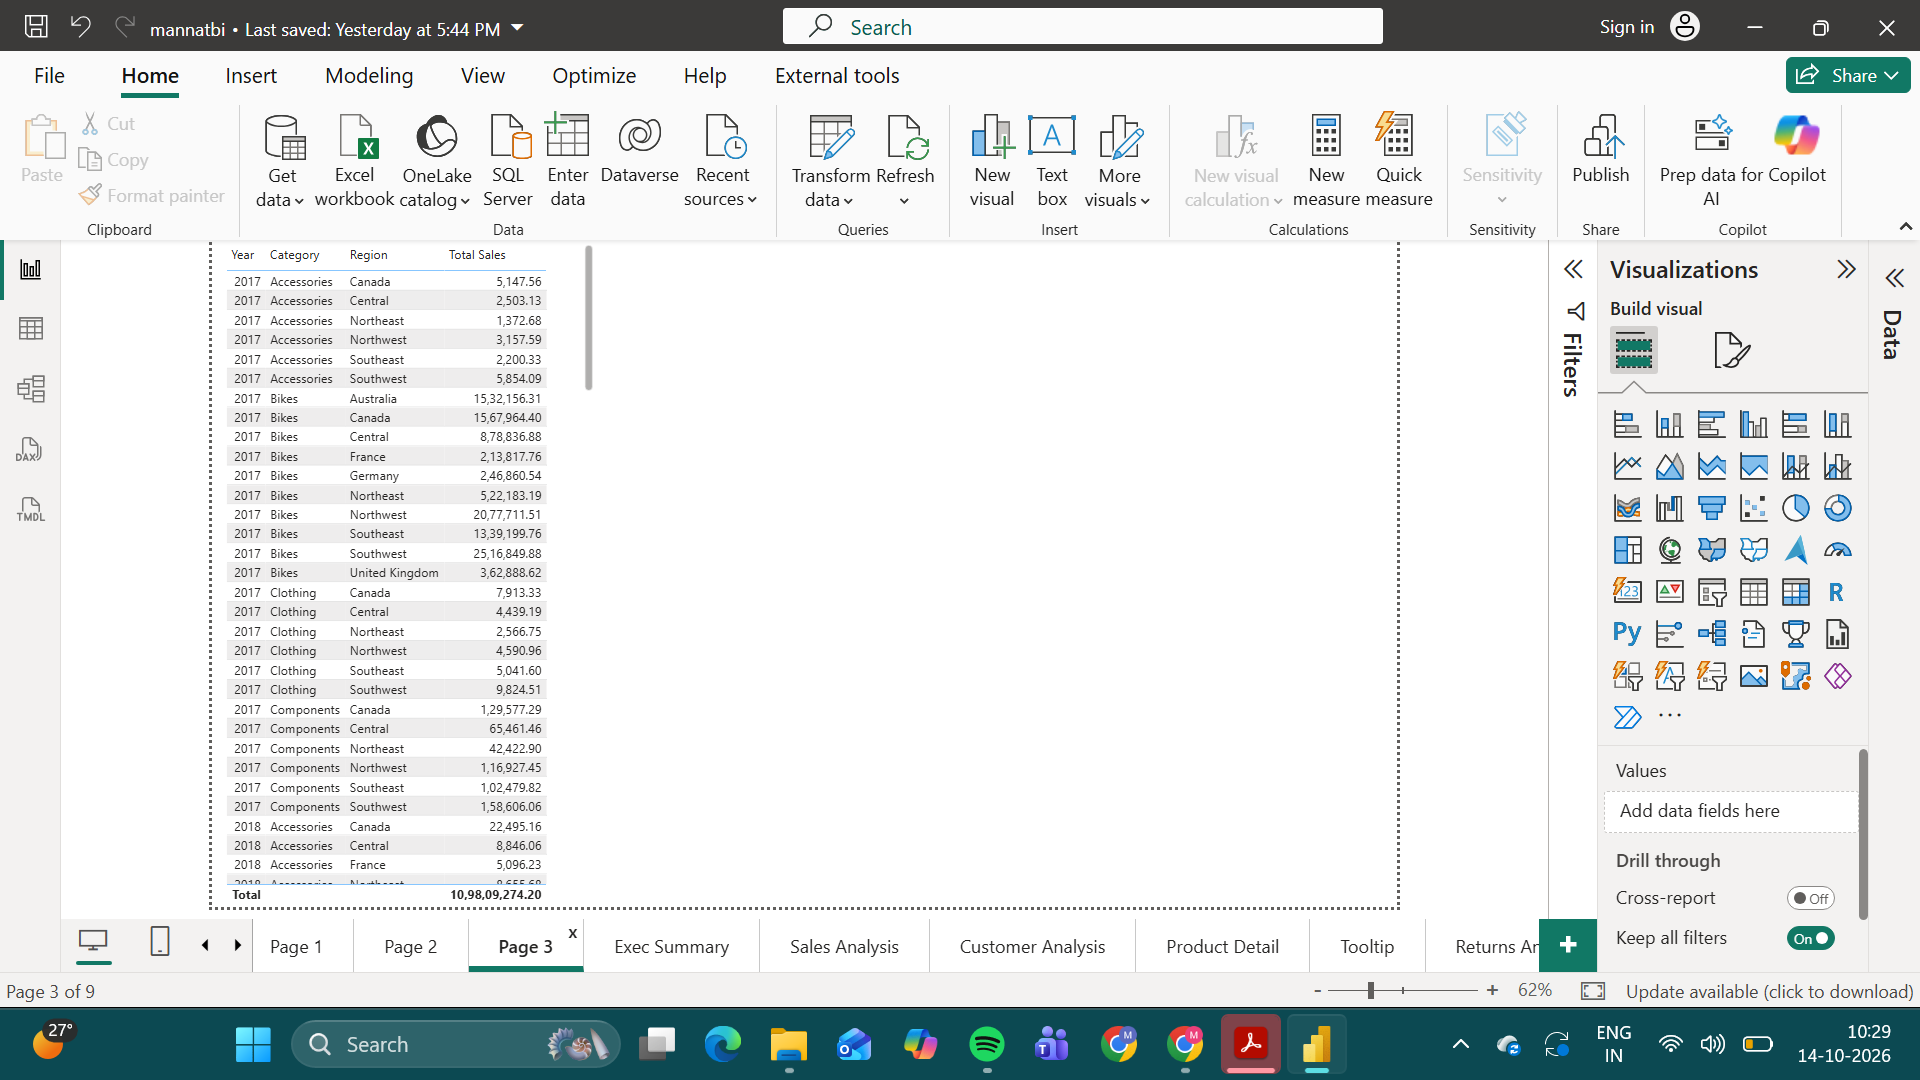

Layout of this report page (visuals, bound fields, positions):
{"tool":"powerbi","page":{"name":"Page 3","canvas":[1280,720],"ordinal":2},"visuals":[{"type":"tableEx","fields":{"Values":["Calendar.Year","Product.Category","SalesTerritory.Region","Sales.Total Sales"]},"box":[9.7,0,406.4,720.6],"z":0},{"type":"tableEx","fields":{"Values":["Calendar.Year","Product.Category","SalesTerritory.Region","Sales.Total Sales"]},"box":[426,0,406,720],"z":1000}]}

Visuals, with their boxes on the page's 1280x720 design canvas (x1, y1, x2, y2). These are canvas units, not pixel positions in the 1920x1080 screenshot, which may show the page scaled, cropped or inside an application window:
tableEx - Calendar.Year x Product.Category: (10, 0, 416, 721)
tableEx - Calendar.Year x Product.Category: (426, 0, 832, 720)
